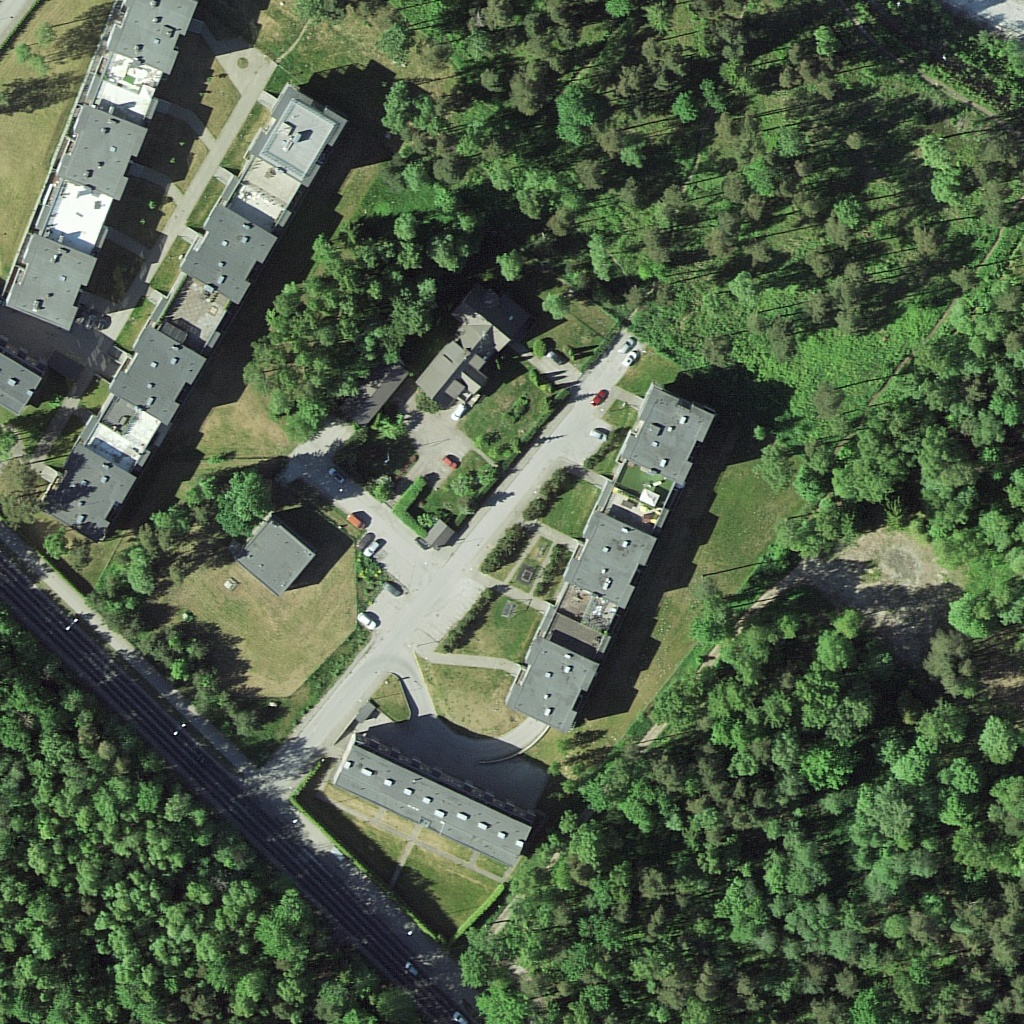building: (334, 729, 538, 863), (402, 298, 520, 409), (44, 98, 154, 203), (109, 324, 211, 429), (249, 82, 351, 184), (564, 510, 660, 616), (616, 388, 711, 491), (45, 439, 140, 541), (508, 641, 605, 738), (181, 204, 277, 299), (1, 232, 95, 325), (235, 511, 322, 598), (102, 1, 200, 72)
